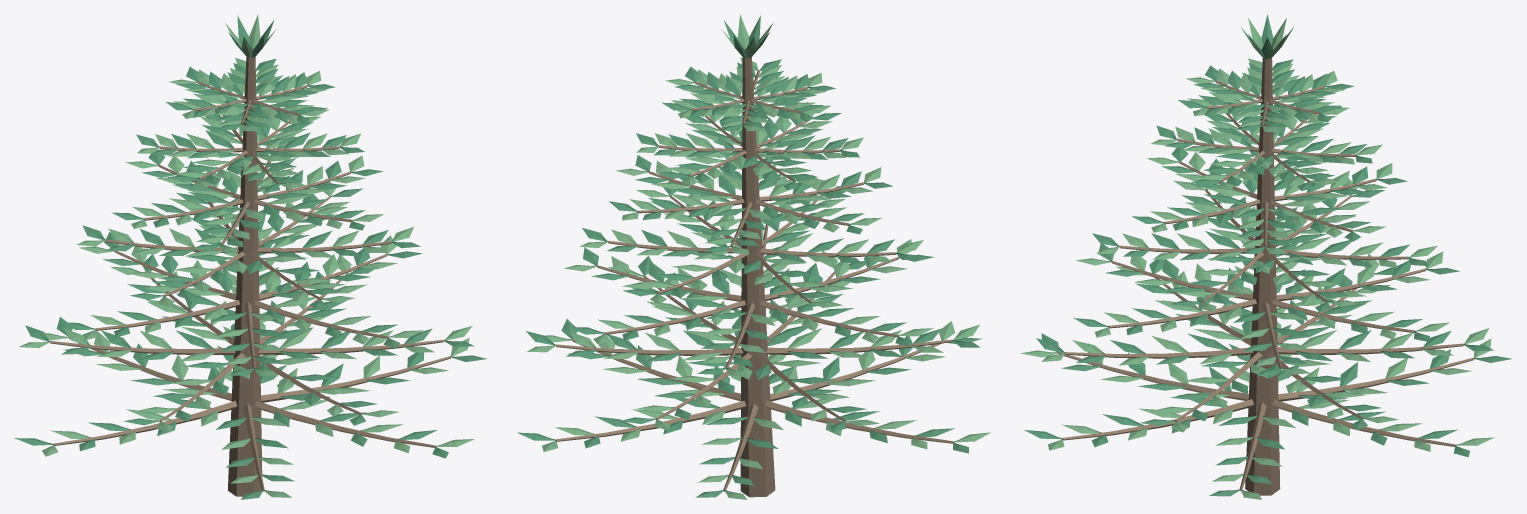
Rendered from SM_PlantPineLod1.fbx.
3 views of the same model, side by side, from view 1: azimuth 30°, elevation 25°; view 2: azimuth 150°, elevation 25°; view 3: azimuth 270°, elevation 25° (orthographic).
Parts seen in each view (by area): view 1: PlantPineLod1; view 2: PlantPineLod1; view 3: PlantPineLod1.
Part boxes in pixels (bbox=[...]): PlantPineLod1: bbox=[14, 15, 486, 499]; PlantPineLod1: bbox=[517, 14, 990, 499]; PlantPineLod1: bbox=[1020, 14, 1511, 499].
Bounding box in the file's own units: 2.52 × 2.5 × 2.39.
